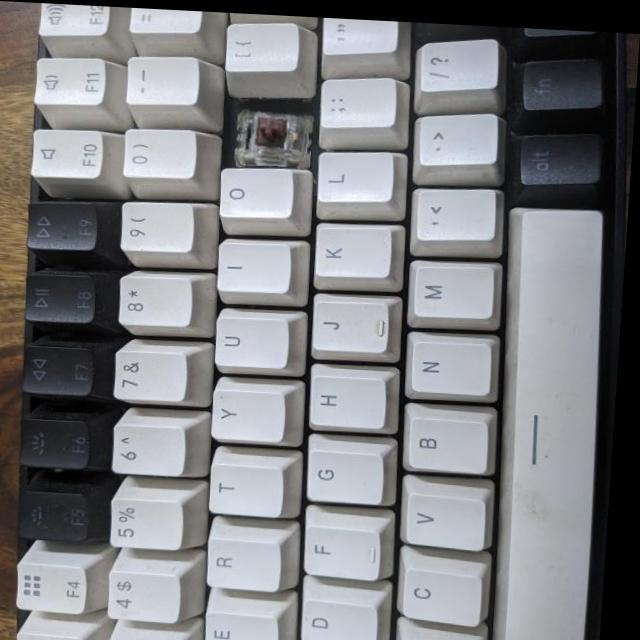key-switch: (237, 98, 316, 164)
